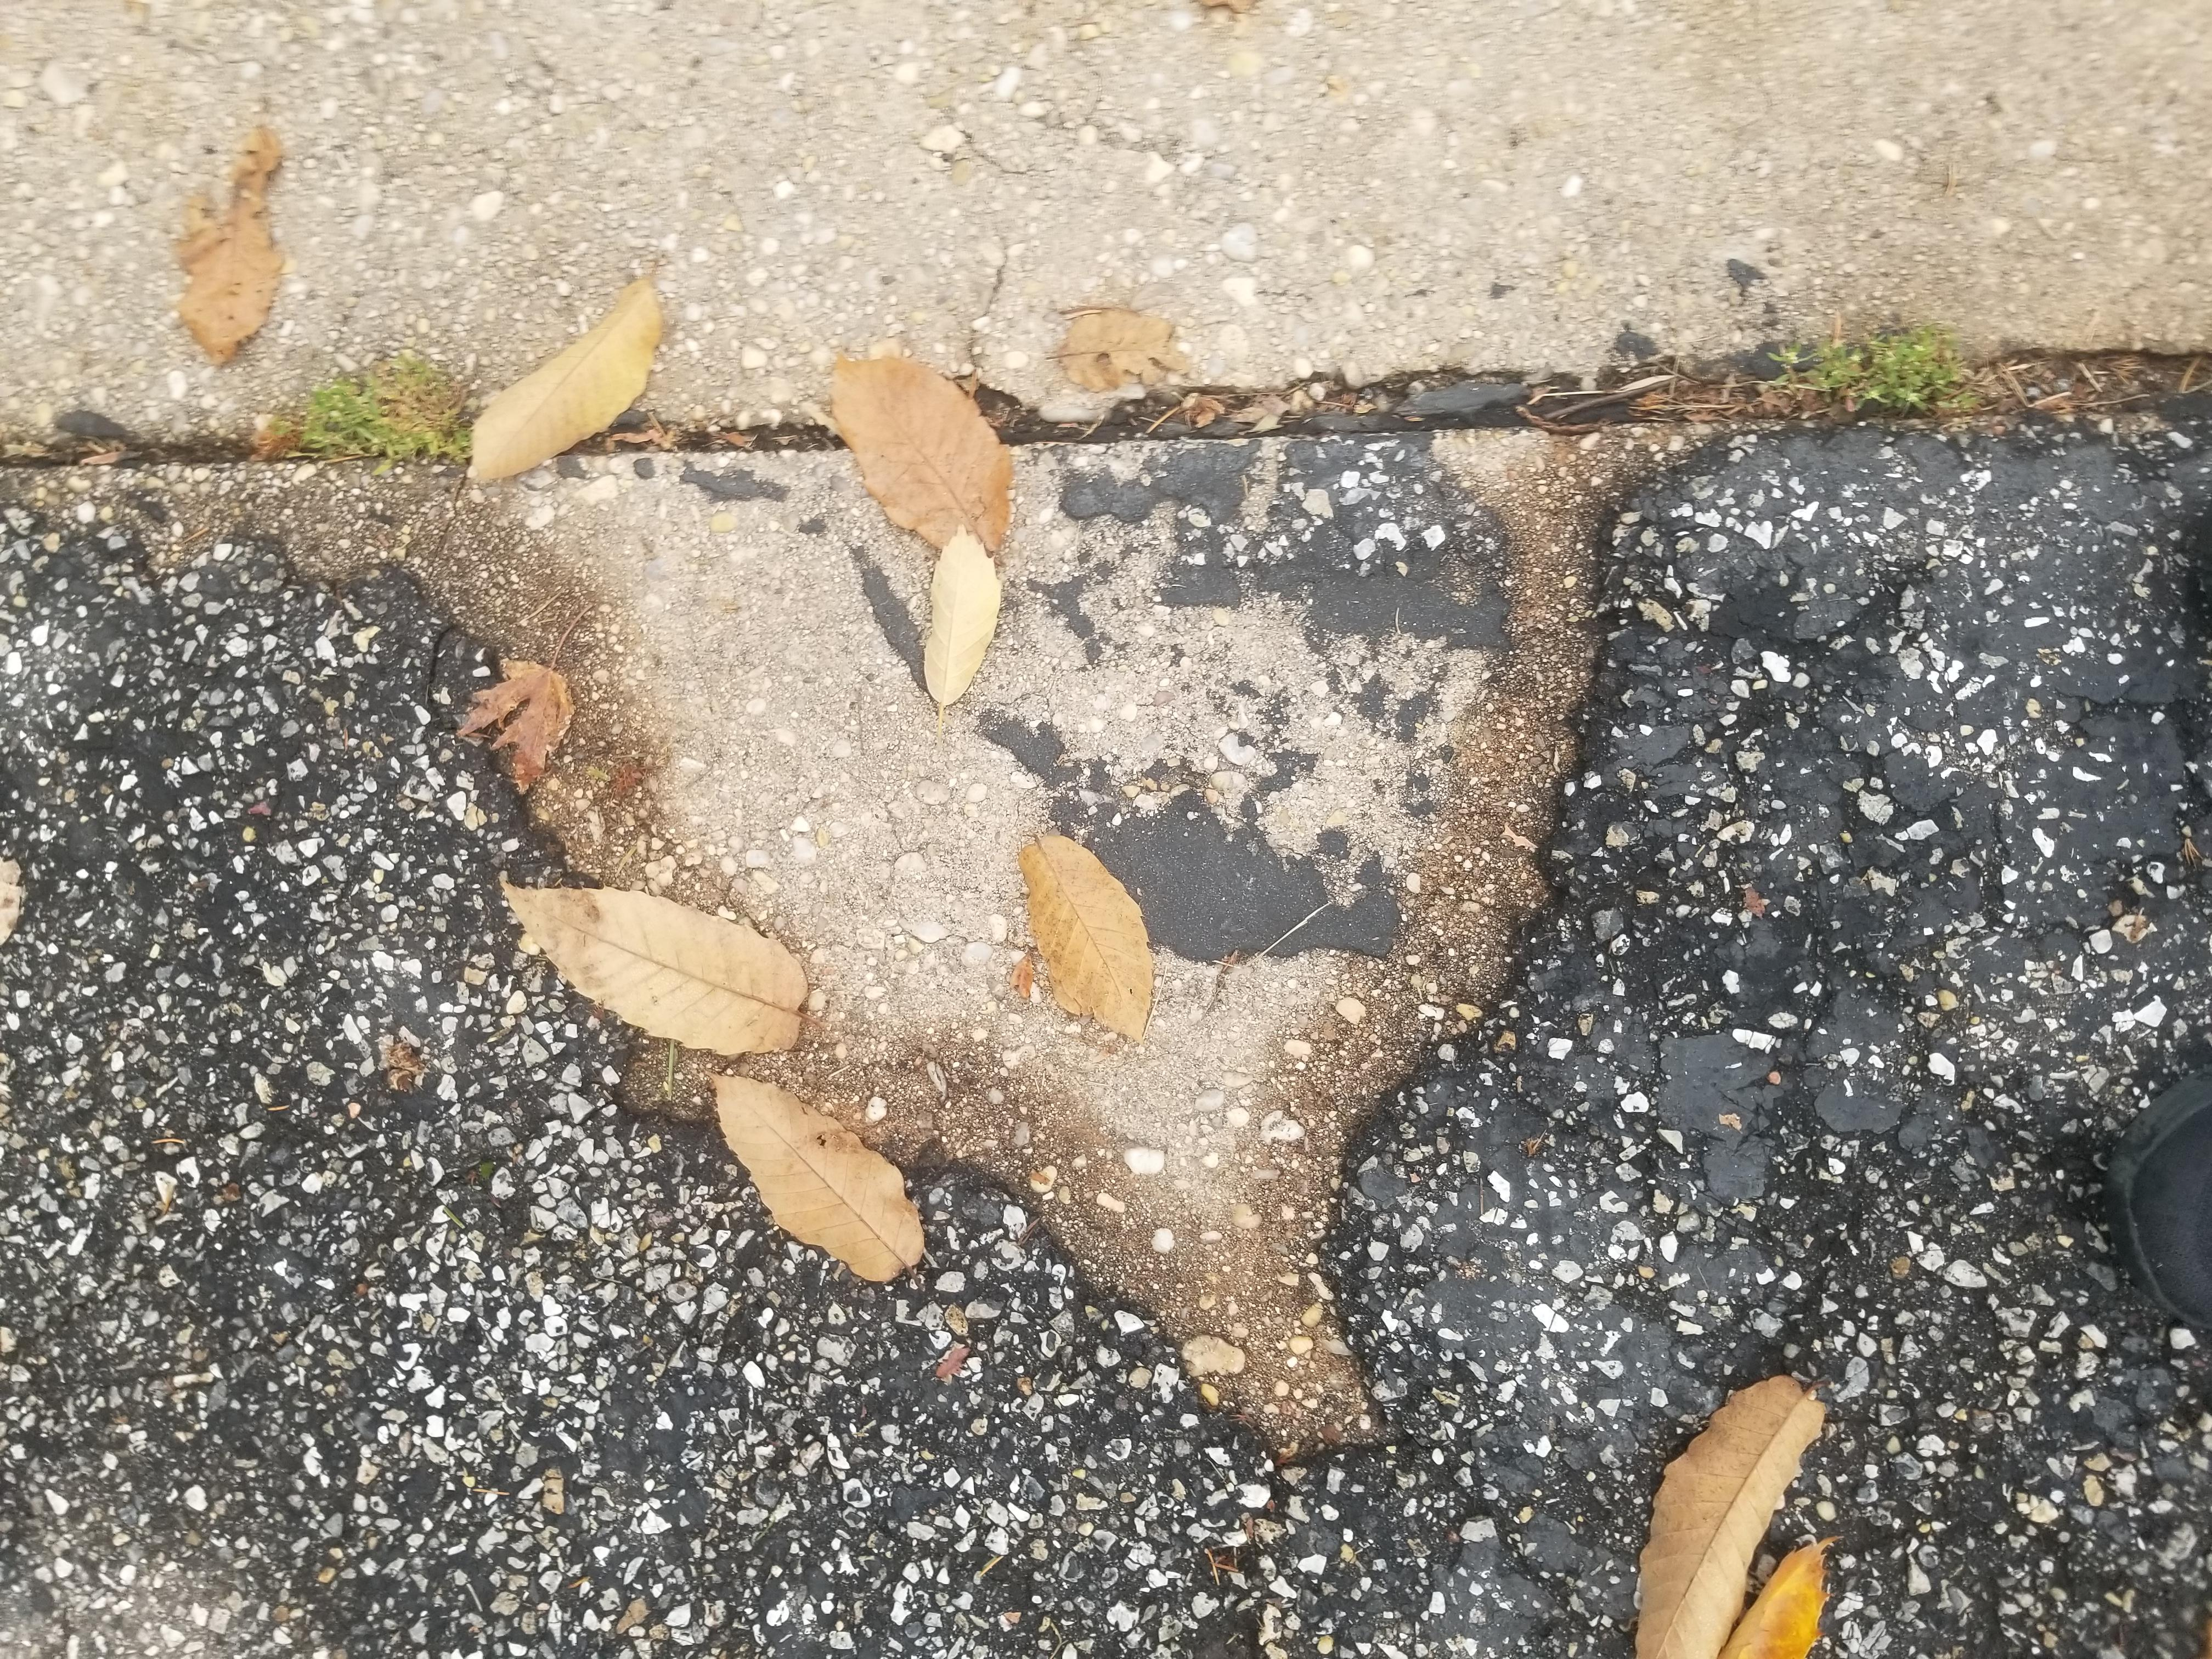pothole: (104, 1, 1934, 1497)
